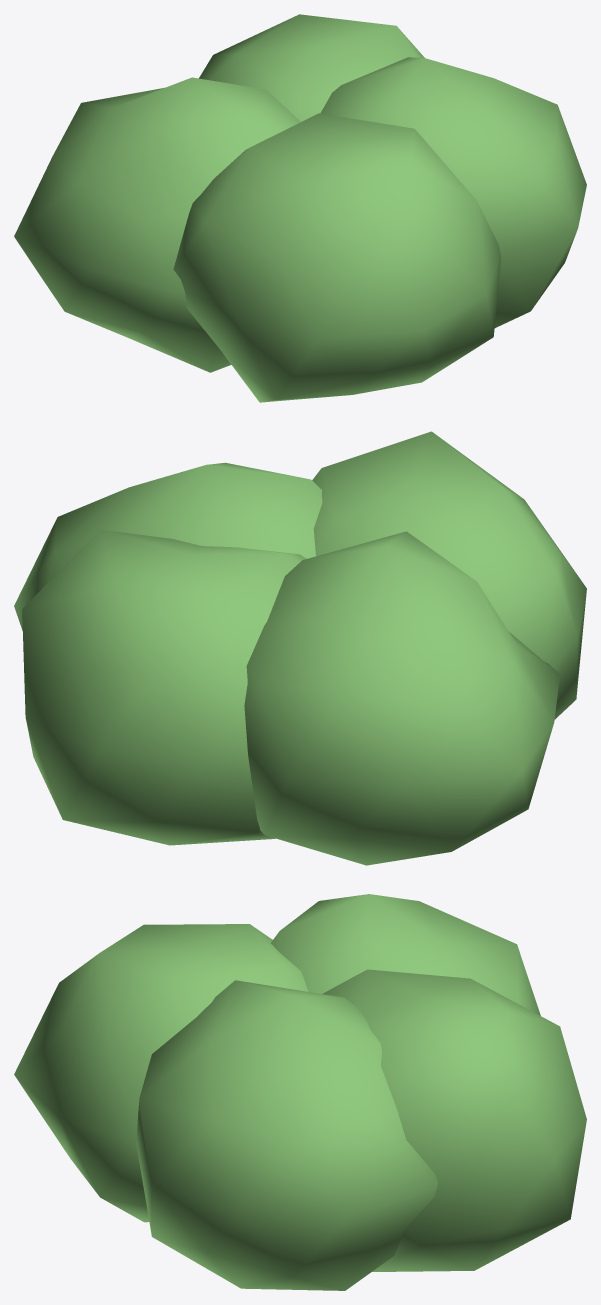
Rendered from Bush_1.fbx.
3 renders of one model, top to bottom at view 1: azimuth 30°, elevation 25°; view 2: azimuth 150°, elevation 25°; view 3: azimuth 270°, elevation 25°, orthographic. The views are drawn at different scales.
Parts seen in each view (by area): view 1: Bush_1; view 2: Bush_1; view 3: Bush_1.
Part boxes in pixels (x1,y1,x2,y2): Bush_1: [14, 14, 586, 402]; Bush_1: [14, 431, 586, 865]; Bush_1: [14, 894, 586, 1290].
Bounding box in the file's own units: 2.12 × 1.15 × 2.06.
